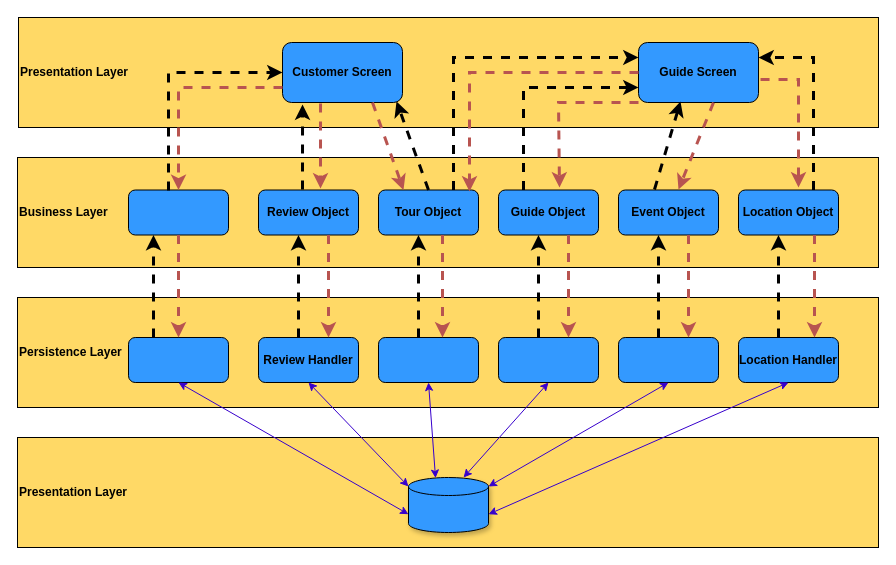
The diagram is 896 pixels wide and 565 high, and some of its shapes have lost their labels. The shapes that lost their labels are listed below. From the top down, each one's centre as x and y in pixels, then its label:
At pixel 178 212: "Customer Object".
At pixel 178 359: "Customer Handler".
At pixel 428 359: "Tour Handler".
At pixel 548 359: "Guide Handler".
At pixel 668 359: "Event Handler".
At pixel 449 506: "Database Server".
